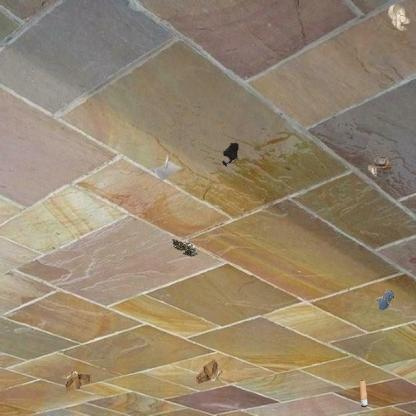dirty: (150, 152, 182, 182), (195, 357, 224, 385), (386, 0, 411, 32), (61, 369, 94, 393), (366, 153, 394, 179), (170, 235, 199, 259), (358, 378, 369, 409)
liquid: (221, 141, 241, 168), (376, 288, 394, 310)
